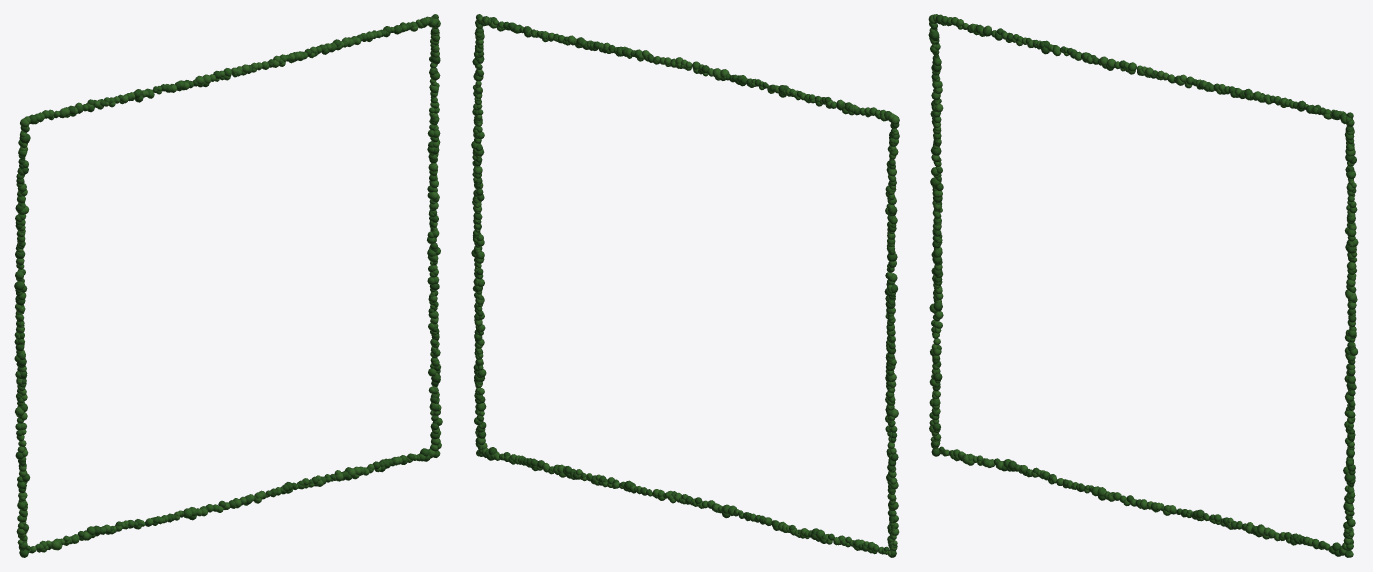
File: forest_random_hedge_core.obj
The picture shows the model from 3 angles, left to right: view 1: azimuth 30°, elevation 25°; view 2: azimuth 150°, elevation 25°; view 3: azimuth 330°, elevation 25°; orthographic projection.
Visible parts, largest first — view 1: core0_0, core2_0, core1_0; view 2: core0_0, core2_0, core1_0; view 3: core0_0, core2_0, core1_0.
Boxes of the visible parts, x1,y1,x2,y2 form: core0_0: (14, 14, 440, 557); core2_0: (15, 16, 441, 552); core1_0: (14, 17, 442, 552); core0_0: (472, 14, 899, 557); core2_0: (472, 16, 899, 555); core1_0: (471, 16, 898, 554); core0_0: (928, 14, 1356, 557); core2_0: (928, 14, 1356, 557); core1_0: (929, 16, 1358, 554).
Size of the model in its own units: 62.46 by 62.51 by 3.06.
